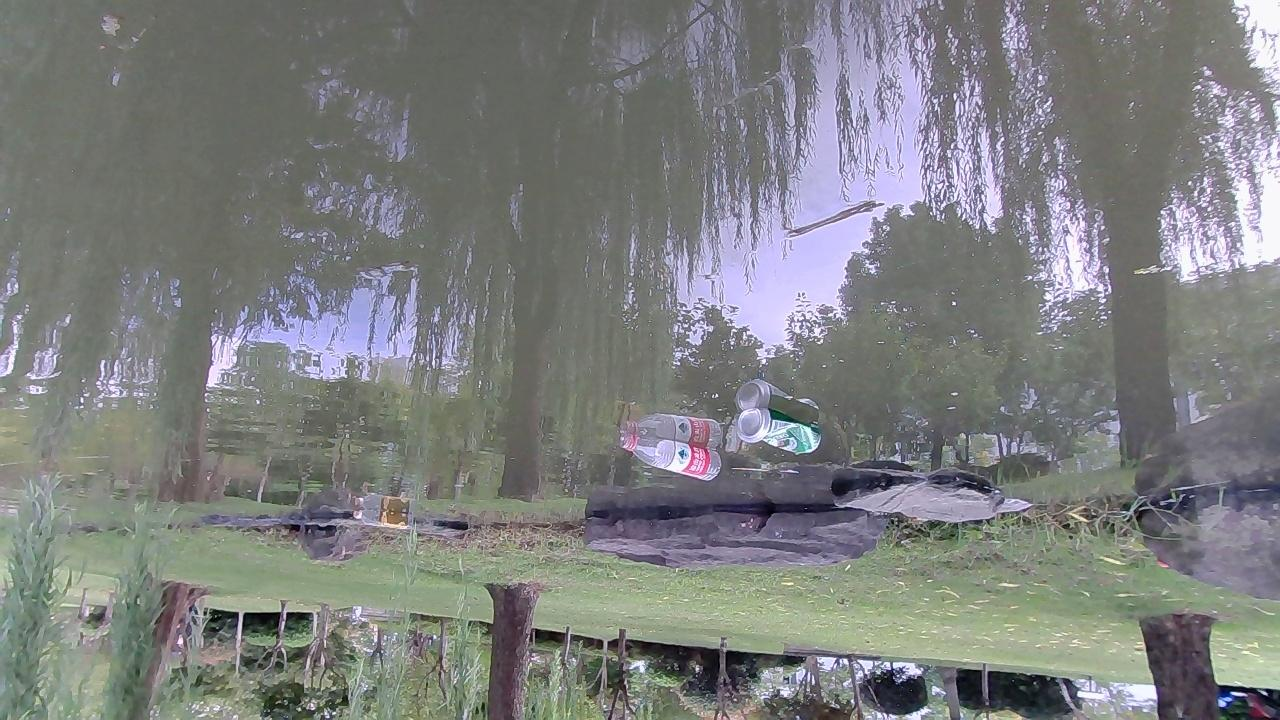Metal: (735, 405, 823, 457)
Plastic: (619, 432, 723, 483)
